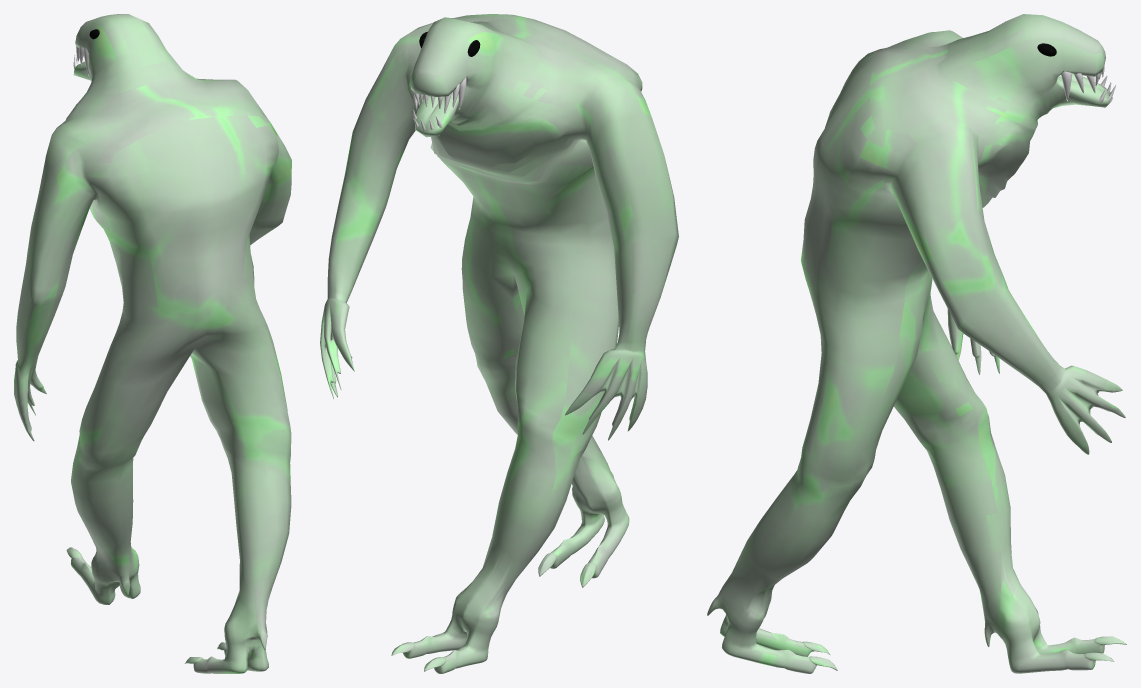
The model's file is Berserkerandar.0045.obj.
3 renders of one model, left to right at view 1: azimuth 30°, elevation 25°; view 2: azimuth 150°, elevation 25°; view 3: azimuth 270°, elevation 25°, orthographic. The views are drawn at different scales.
Visible parts, largest first — view 1: polySurface27; view 2: polySurface27; view 3: polySurface27.
Part boxes in pixels (x1=…): polySurface27: x1=14, y1=14, x2=291, y2=673; polySurface27: x1=320, y1=14, x2=678, y2=673; polySurface27: x1=707, y1=14, x2=1126, y2=673.
Size of the model in its own units: 11.47 by 23.06 by 13.38.
Materials: 1 (1 with a texture image).
